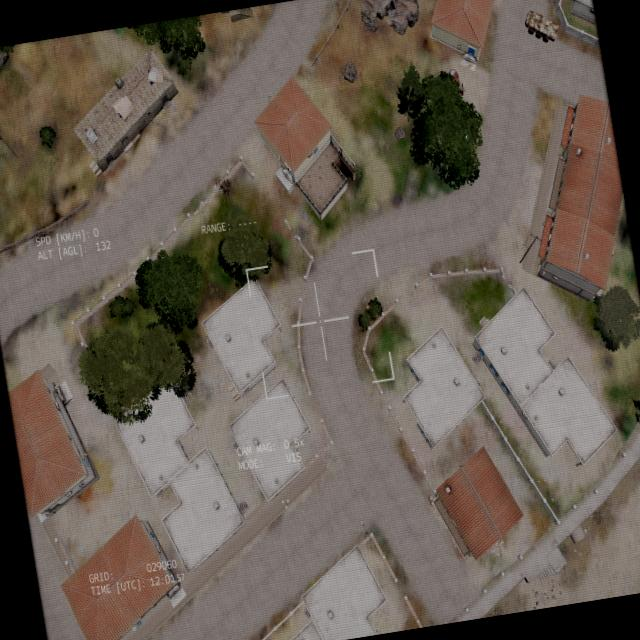apc: (522, 6, 561, 47)
